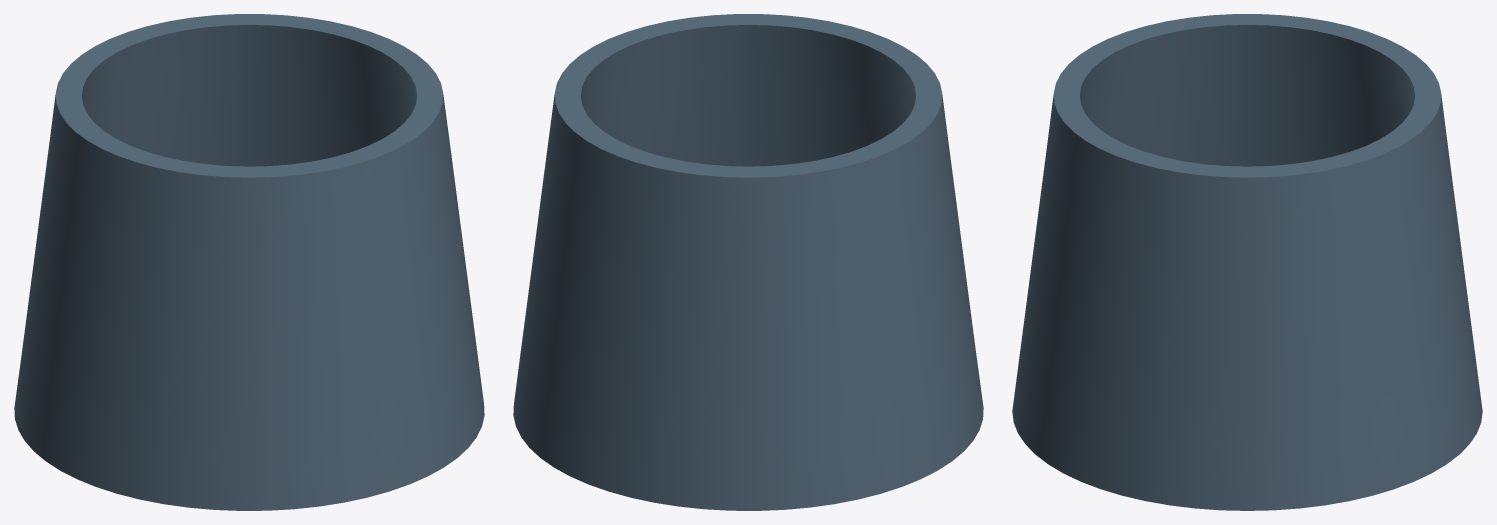
The model's file is perehod-108x6-89x6-L80.glb.
3 views of the same model, side by side, from view 1: azimuth 30°, elevation 25°; view 2: azimuth 150°, elevation 25°; view 3: azimuth 270°, elevation 25° (orthographic).
Parts seen in each view (by area): view 1: Open CASCADE STEP translator 7.9 35; view 2: Open CASCADE STEP translator 7.9 35; view 3: Open CASCADE STEP translator 7.9 35.
Boxes of the visible parts, x1,y1,x2,y2 form: Open CASCADE STEP translator 7.9 35: [14, 14, 484, 510]; Open CASCADE STEP translator 7.9 35: [513, 14, 983, 510]; Open CASCADE STEP translator 7.9 35: [1012, 14, 1482, 510].
Bounding box in the file's own units: 108 × 80 × 108.
